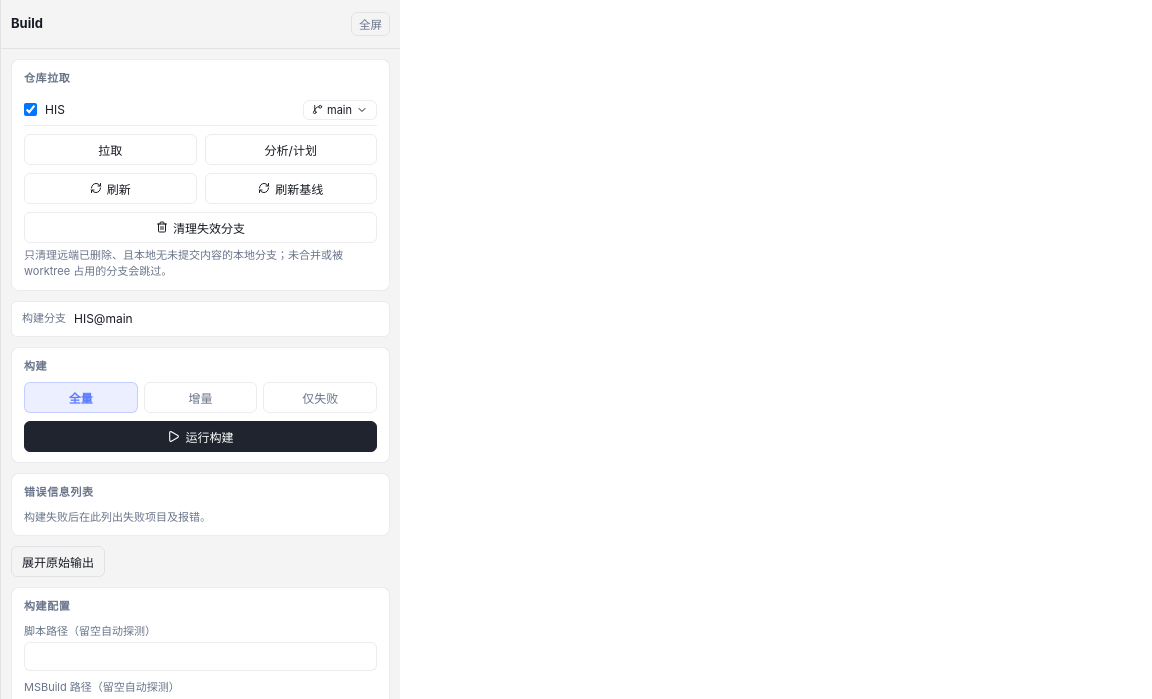
Test: BuildPanel stale branch cleanup › keeps branches when the confirmation is declined
Click the button "清理失效分支" at (200, 227), box [24,212,377,242]
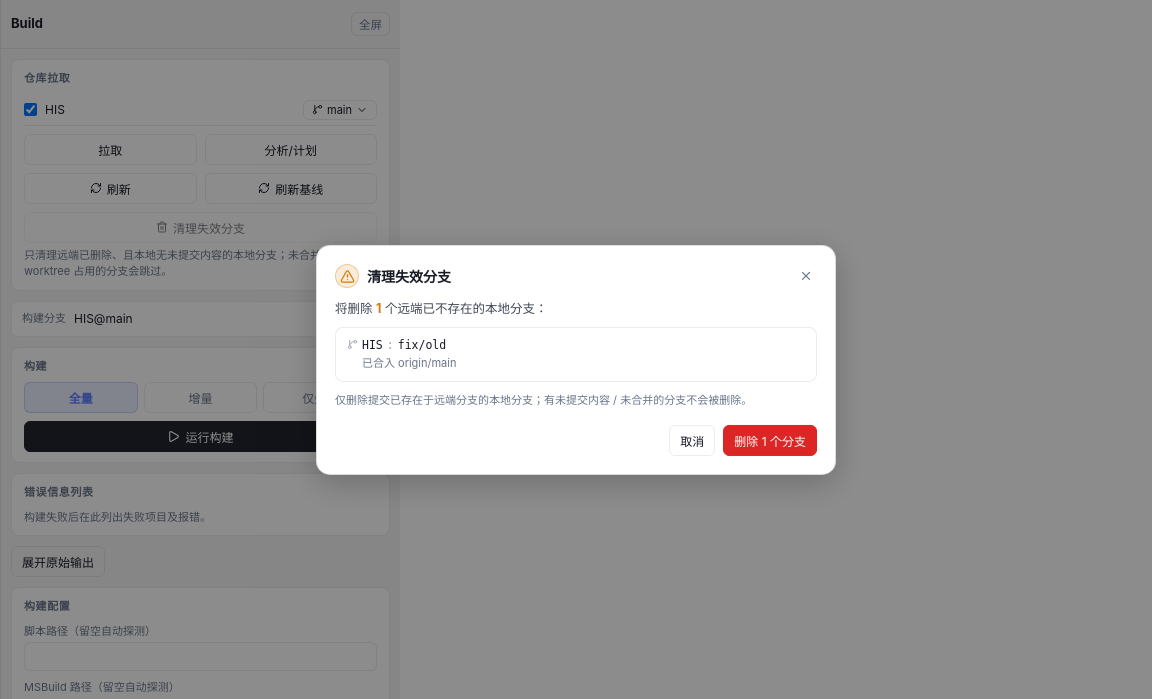
Click the button "取消" at (692, 440), box [669,425,715,456]
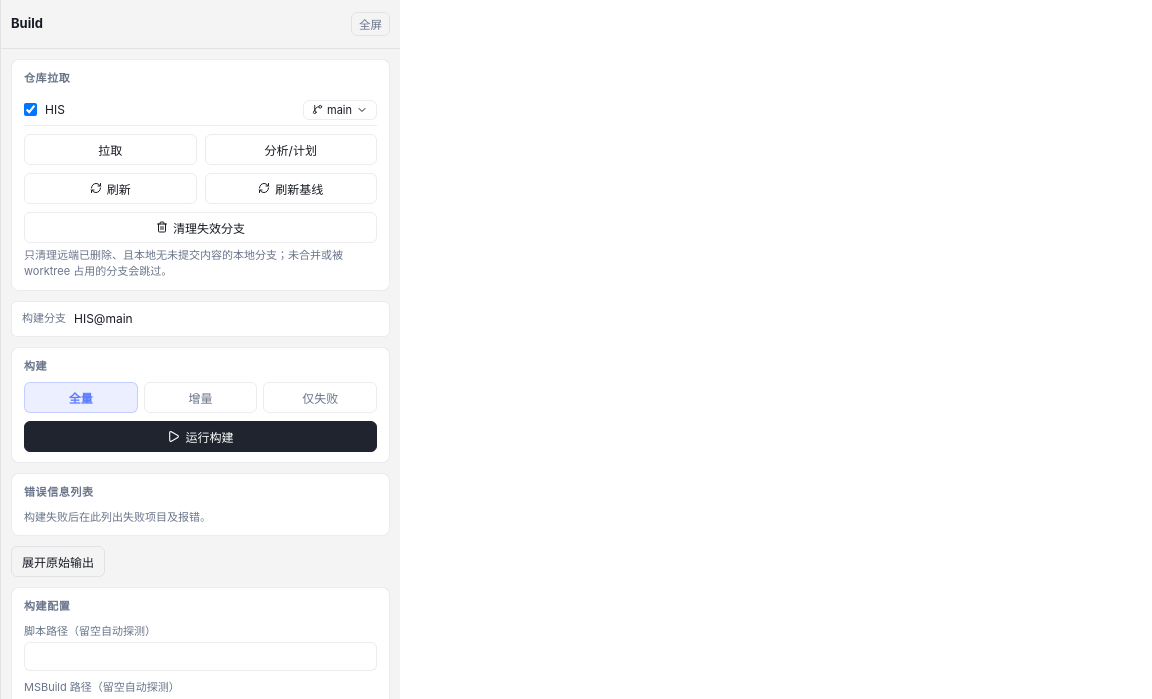
Check: the dialog is gone
